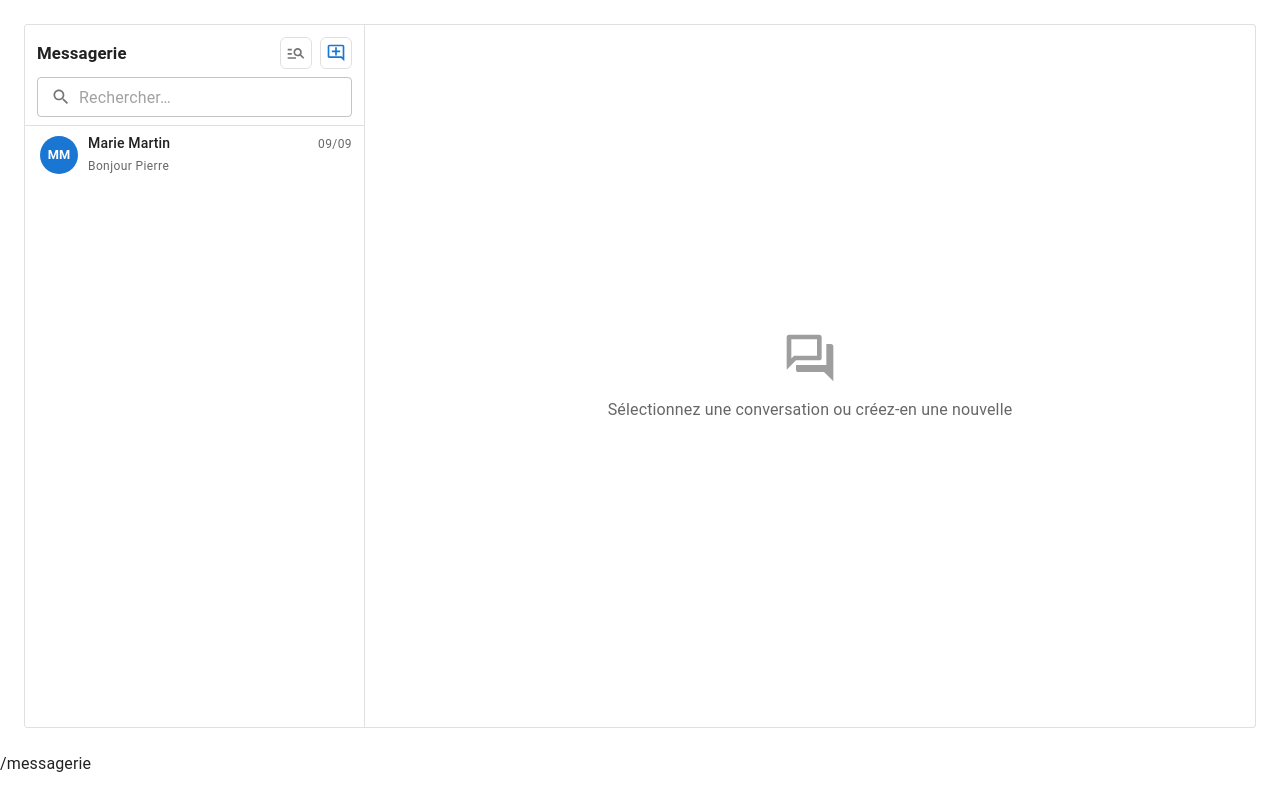
Test: MessageriePage › ouvre le dialogue de création depuis la liste
expect the text "Marie Martin" is shown: met, box [88,135,170,151]
Step 1. Click the button named "Nouvelle conversation" → (336, 53), box [320,37,352,69]
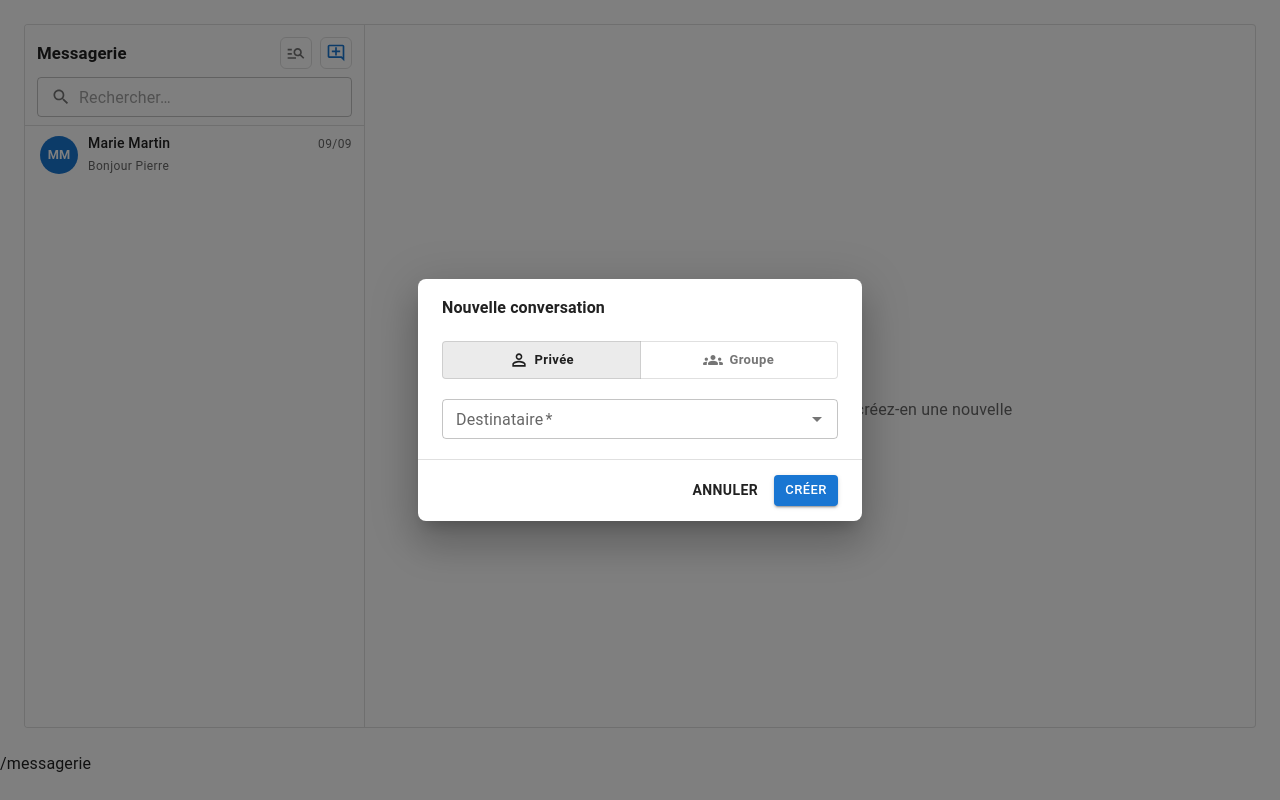
expect the dialog is shown: met, box [418,279,862,521]
